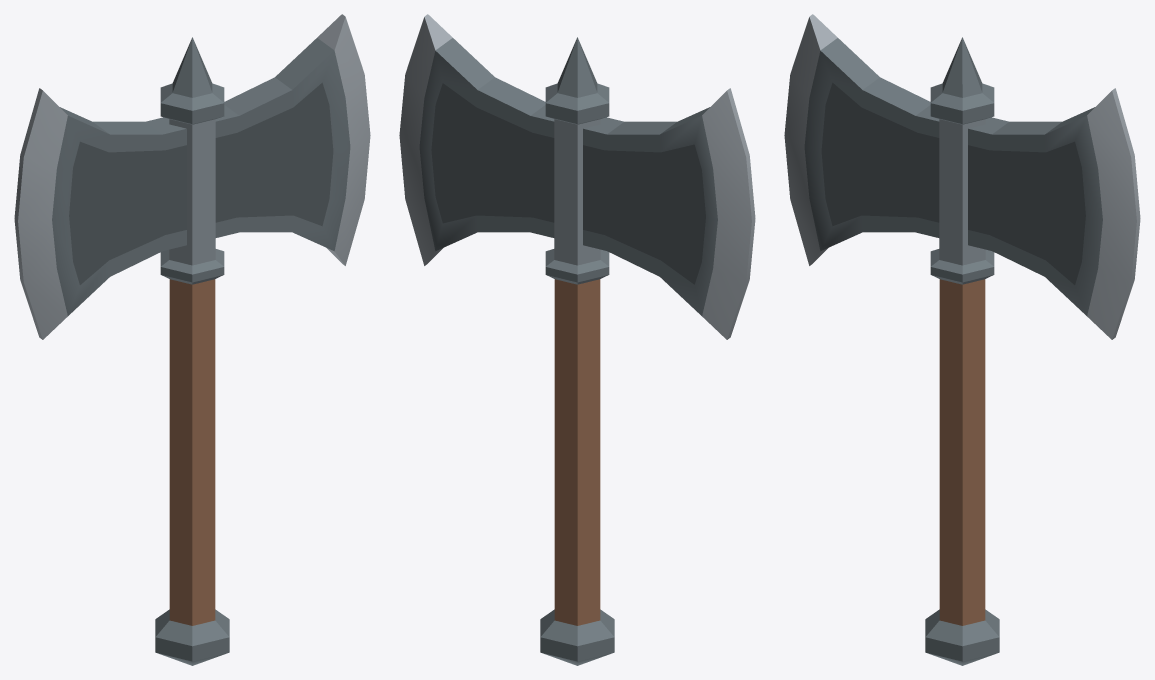
Rendered from SM_Icon_Axe_01.fbx.
3 views of the same model, side by side, from view 1: azimuth 30°, elevation 25°; view 2: azimuth 150°, elevation 25°; view 3: azimuth 330°, elevation 25° (orthographic).
Visible parts, largest first — view 1: SM_Icon_Axe_01; view 2: SM_Icon_Axe_01; view 3: SM_Icon_Axe_01.
Part boxes in pixels (bbox=[...]): SM_Icon_Axe_01: bbox=[14, 14, 370, 665]; SM_Icon_Axe_01: bbox=[399, 14, 755, 665]; SM_Icon_Axe_01: bbox=[784, 14, 1140, 665].
Bounding box in the file's own units: 49.83 × 84.98 × 9.06.
